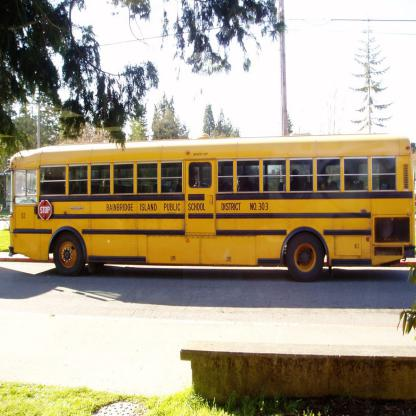Bus: (3, 133, 416, 282)
